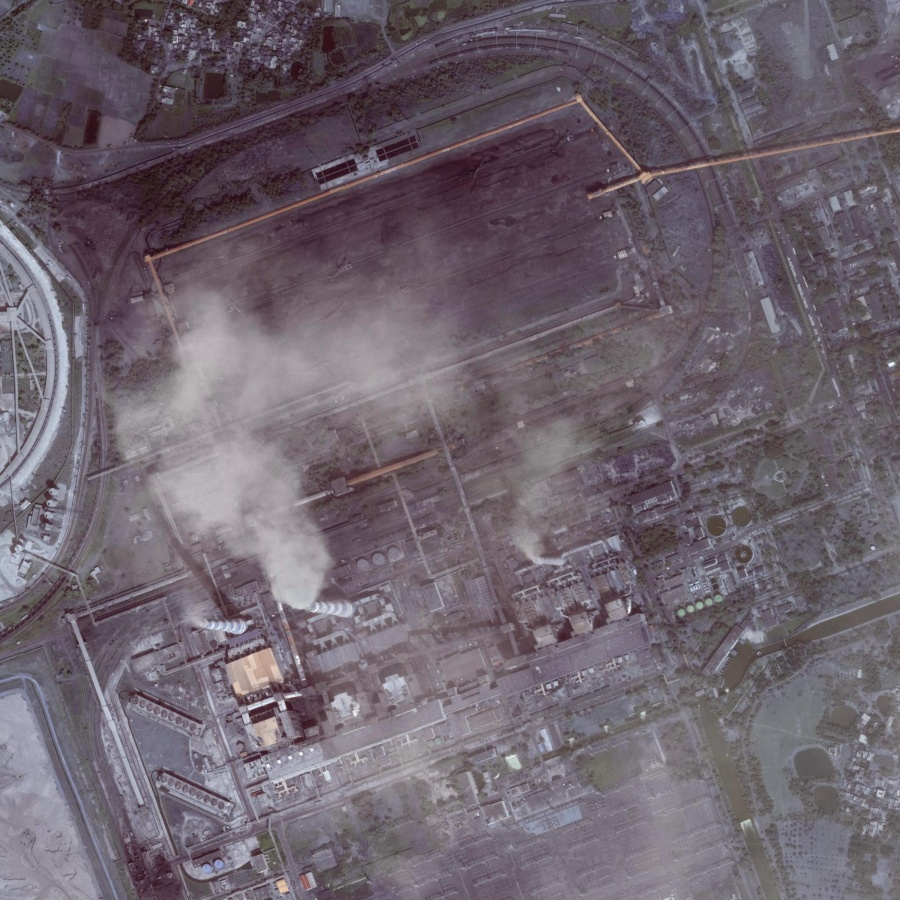PowerPlant: (95, 108, 676, 503), (150, 480, 634, 791)
